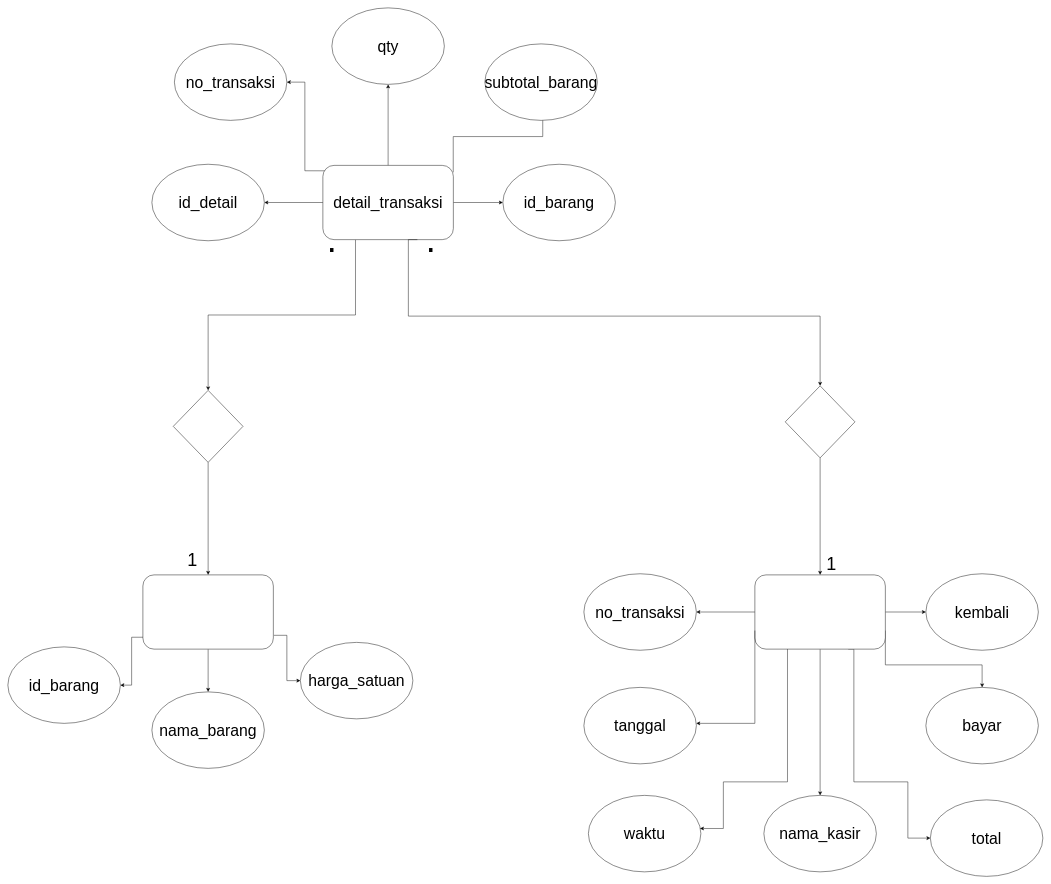
Image size: 1051x884. Some labels were removed from this diagram. The shapes that lost their labels are listed below. From the top down, each one's centre as x and y in pixels, then its label:
point 208,426: memiliki
point 820,421: memiiliki
point 207,611: barang
point 819,611: transaksi
